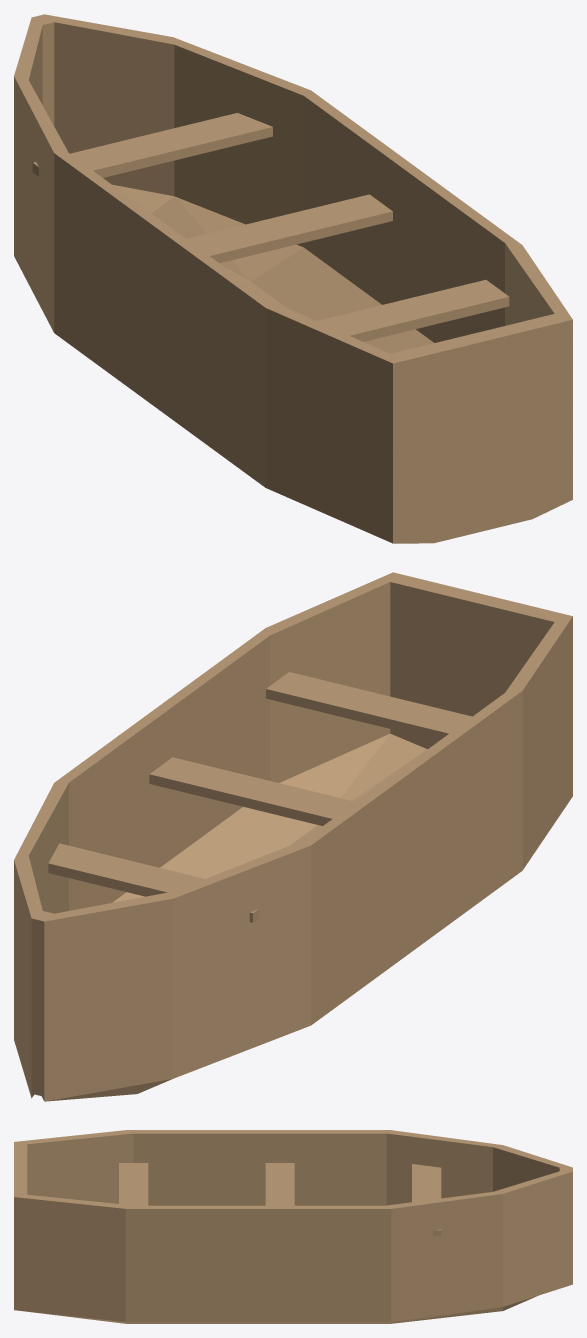
The model's file is rowing_boat_lod1.glb.
The picture shows the model from 3 angles, top to bottom: view 1: azimuth 30°, elevation 25°; view 2: azimuth 150°, elevation 25°; view 3: azimuth 270°, elevation 25°; orthographic projection. The views are drawn at different scales.
Parts seen in each view (by area): view 1: rowing_boat_lod1; view 2: rowing_boat_lod1; view 3: rowing_boat_lod1.
Boxes of the visible parts, x1,y1,x2,y2 form: rowing_boat_lod1: [14, 14, 572, 543]; rowing_boat_lod1: [14, 572, 572, 1101]; rowing_boat_lod1: [14, 1130, 572, 1323].
Size of the model in its own units: 1.4 by 1.1 by 4.2.
